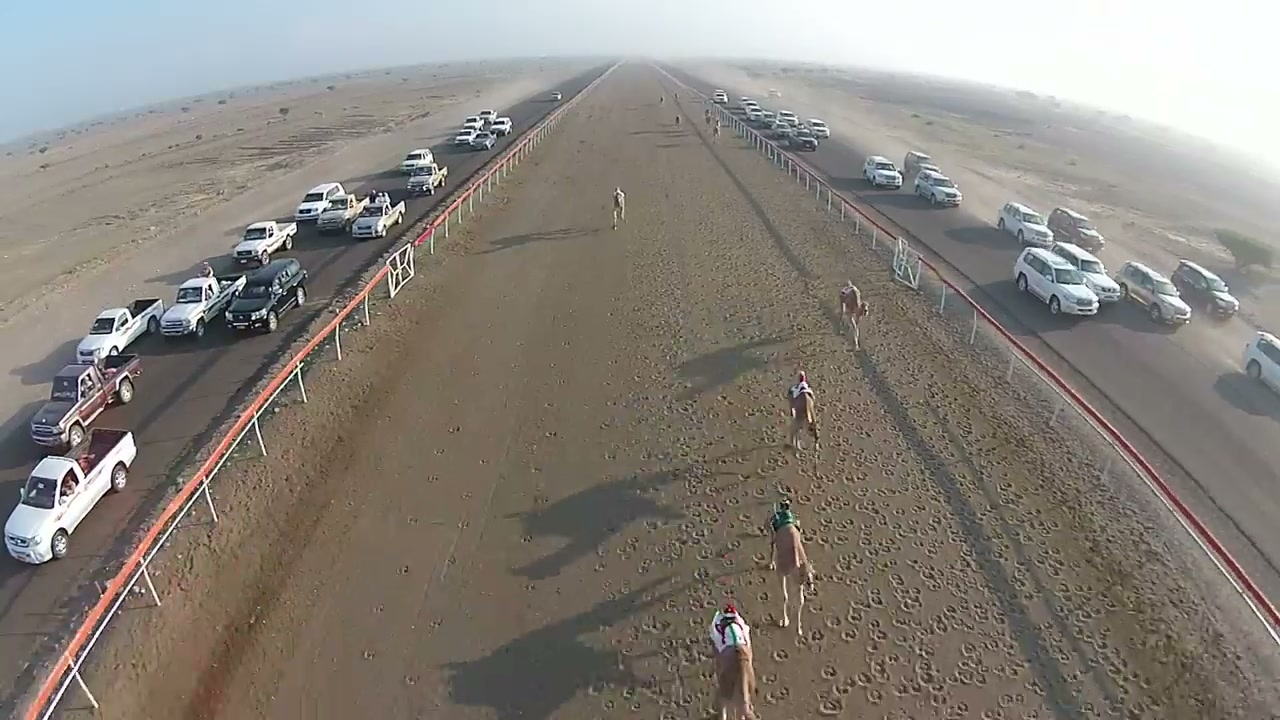animal_foot_print: (797, 351, 1153, 700)
